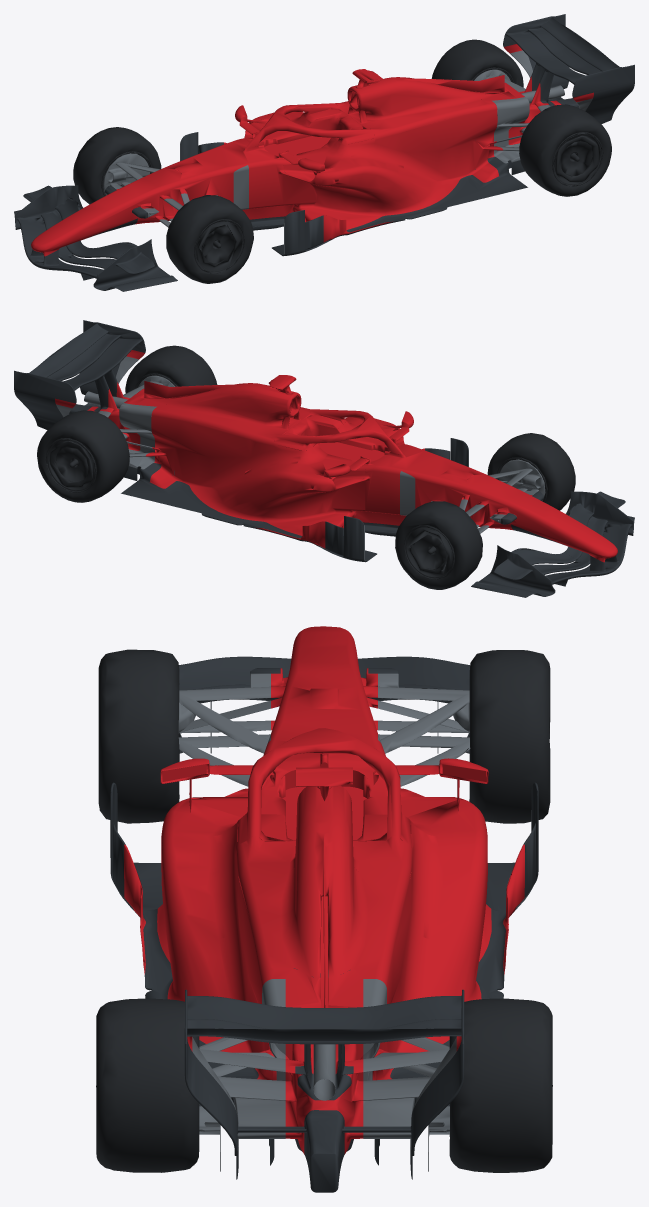
File: vortex-p1-low.glb
3 views of the same model, one above another, from view 1: azimuth 30°, elevation 25°; view 2: azimuth 150°, elevation 25°; view 3: azimuth 270°, elevation 25° (orthographic). The views are drawn at different scales.
Visible parts, largest first — view 1: left-sidepod, chassis, front-wing, rear-wing, engine-cover, rear-left-wheel, front-left-wheel, floor, front-right-wheel, halo, rear-right-wheel, rear-suspension (+3 smaller); view 2: right-sidepod, chassis, front-wing, rear-wing, engine-cover, rear-right-wheel, front-right-wheel, floor, front-left-wheel, halo, rear-left-wheel, rear-suspension (+3 smaller); view 3: engine-cover, chassis, rear-wing, left-sidepod, right-sidepod, rear-left-wheel, rear-right-wheel, rear-suspension, front-left-wheel, front-right-wheel, front-suspension, floor (+4 smaller).
Boxes of the visible parts, x1,y1,x2,y2 form: left-sidepod: (281,106,502,242); chassis: (31,76,561,256); front-wing: (14,185,177,291); rear-wing: (503,14,634,123); engine-cover: (335,44,593,139); rear-left-wheel: (519,104,611,196); front-left-wheel: (166,195,253,283); floor: (180,132,527,256); front-right-wheel: (73,127,161,204); halo: (245,103,375,148); rear-right-wheel: (431,39,523,87); rear-suspension: (474,50,592,163); right-sidepod: (146,412,367,548); chassis: (87,382,617,562); front-wing: (471,491,634,597); rear-wing: (14,320,145,429); engine-cover: (55,350,312,445); rear-right-wheel: (37,410,129,502); front-right-wheel: (395,501,482,589); floor: (121,438,468,562); front-left-wheel: (487,433,575,510); halo: (273,409,403,454); rear-left-wheel: (125,345,217,393); rear-suspension: (56,356,174,469); engine-cover: (187,767,461,1051); chassis: (234,626,414,1154); rear-wing: (184,989,464,1192); left-sidepod: (124,765,264,1079); right-sidepod: (384,765,524,1079); rear-left-wheel: (96,998,199,1172); rear-right-wheel: (449,998,552,1172); rear-suspension: (192,979,456,1151); front-left-wheel: (98,649,179,823); front-right-wheel: (469,650,550,823); front-suspension: (178,673,531,831); floor: (110,782,538,1179).
Size of the model in its own units: 5394 by 1098 by 1881.
